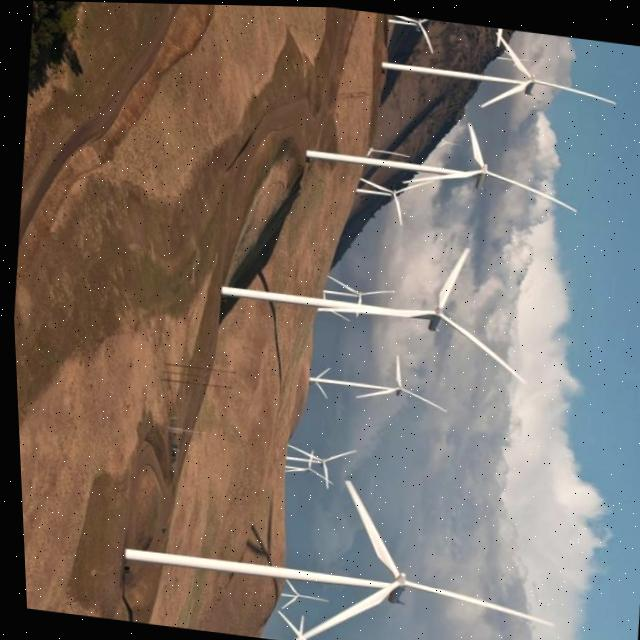solid-blade: (397, 577, 547, 622), (290, 582, 388, 640), (438, 313, 521, 379), (340, 478, 393, 576), (484, 167, 574, 208), (532, 77, 615, 102), (434, 246, 466, 307), (478, 77, 531, 105), (400, 167, 479, 181), (398, 386, 442, 408), (465, 121, 481, 166), (282, 442, 317, 460), (351, 386, 390, 396), (319, 448, 351, 460), (389, 193, 398, 224), (390, 353, 394, 385)
